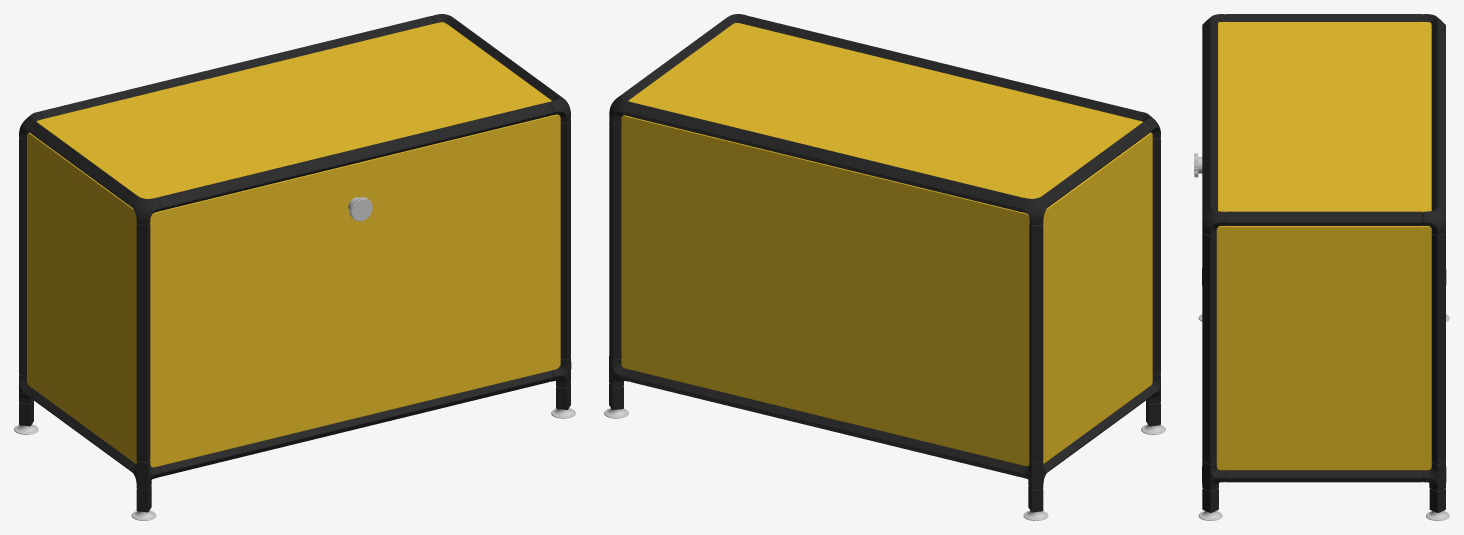
The picture shows the model from 3 angles, left to right: view 1: azimuth 30°, elevation 25°; view 2: azimuth 150°, elevation 25°; view 3: azimuth 270°, elevation 25°; orthographic projection. The views are drawn at different scales.
Visible parts, largest first — view 1: 729x329x375; view 2: 729x329x375; view 3: 729x329x375.
Boxes of the visible parts, x1,y1,x2,y2 form: 729x329x375: (14, 14, 575, 520); 729x329x375: (604, 14, 1165, 520); 729x329x375: (1194, 14, 1449, 520).
Bounding box in the file's own units: 0.8189 × 0.5593 × 0.4257.
